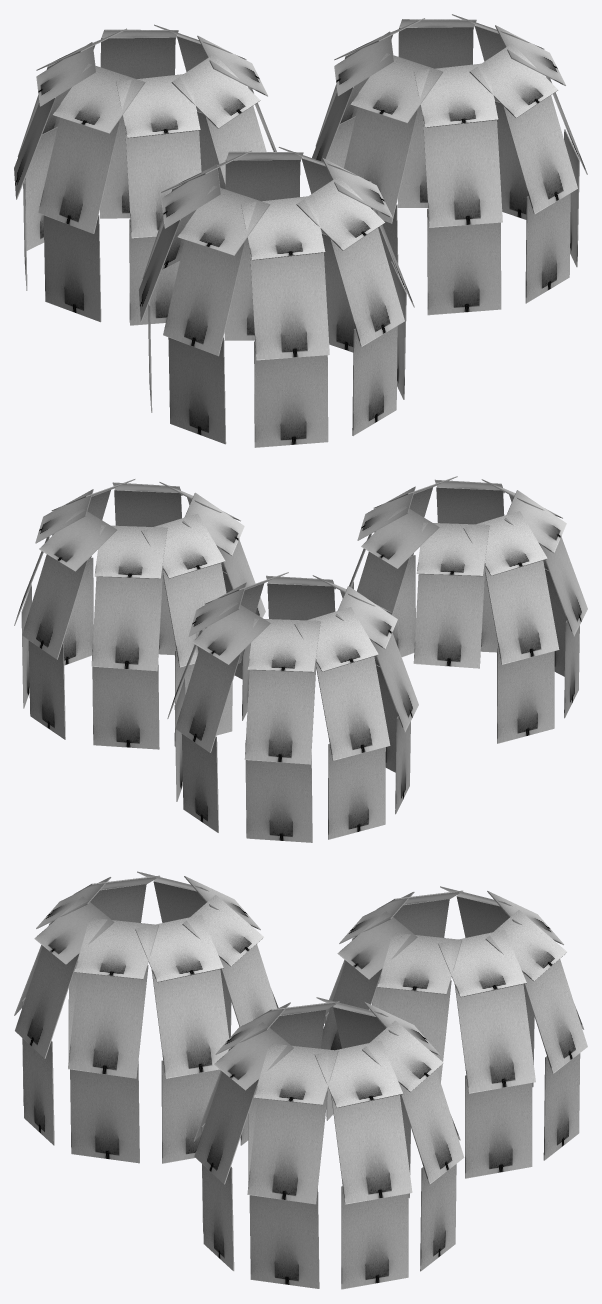
Rendered from farmstead_roof.dae.
The picture shows the model from 3 angles, top to bottom: view 1: azimuth 30°, elevation 25°; view 2: azimuth 150°, elevation 25°; view 3: azimuth 270°, elevation 25°; orthographic projection. The views are drawn at different scales.
Parts seen in each view (by area): view 1: roof_farmstead; view 2: roof_farmstead; view 3: roof_farmstead.
Boxes of the visible parts, x1,y1,x2,y2 form: roof_farmstead: [14, 14, 587, 447]; roof_farmstead: [14, 476, 587, 842]; roof_farmstead: [14, 871, 587, 1289].
Size of the model in its own units: 11.63 by 11.77 by 4.79.
